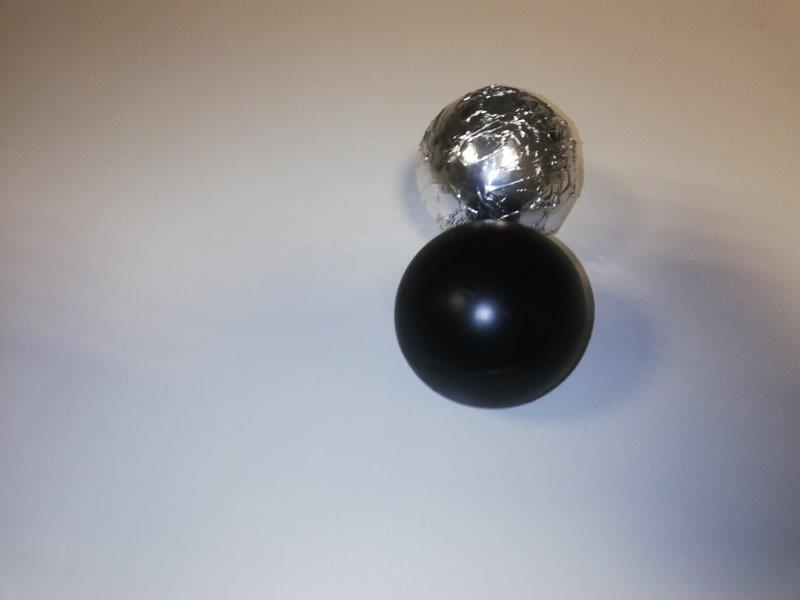bianca: (411, 80, 582, 239)
nera: (393, 218, 595, 408)
